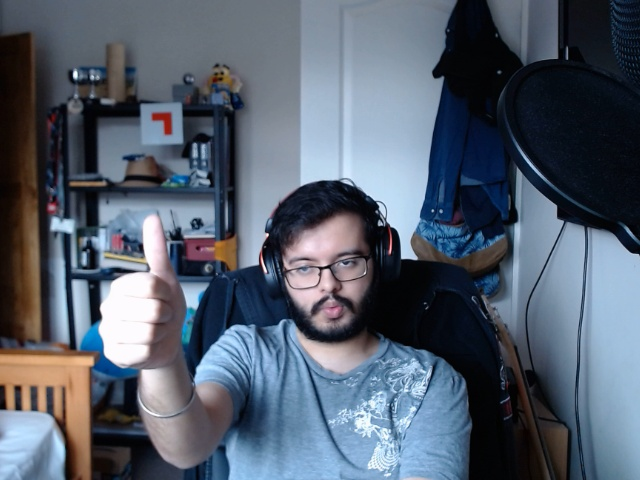Thumbs up: (90, 211, 207, 368)
